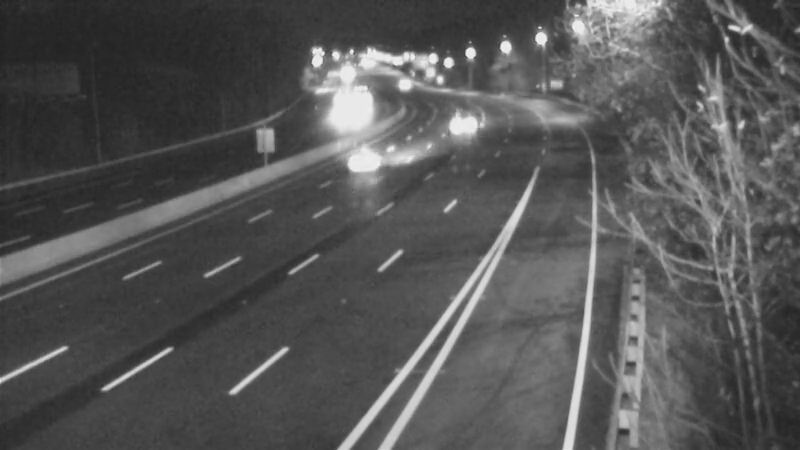vehicle: (332, 122, 412, 202), (376, 56, 426, 106), (441, 102, 491, 152), (318, 91, 368, 141)
